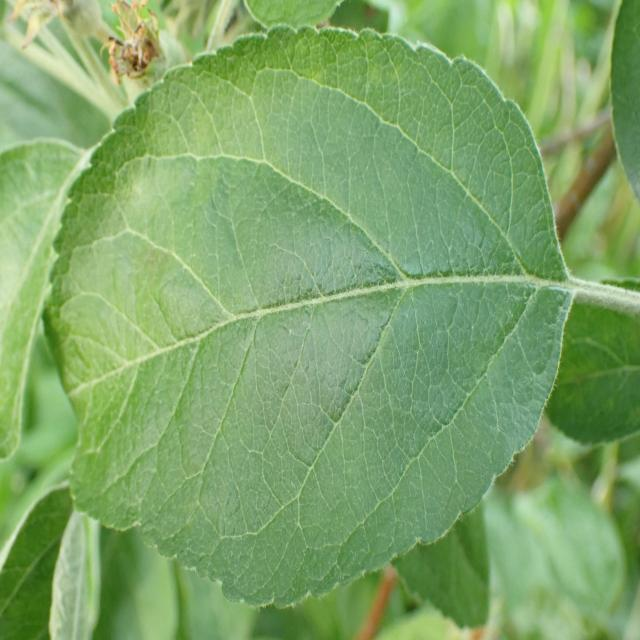scab: (63, 35, 462, 491)
